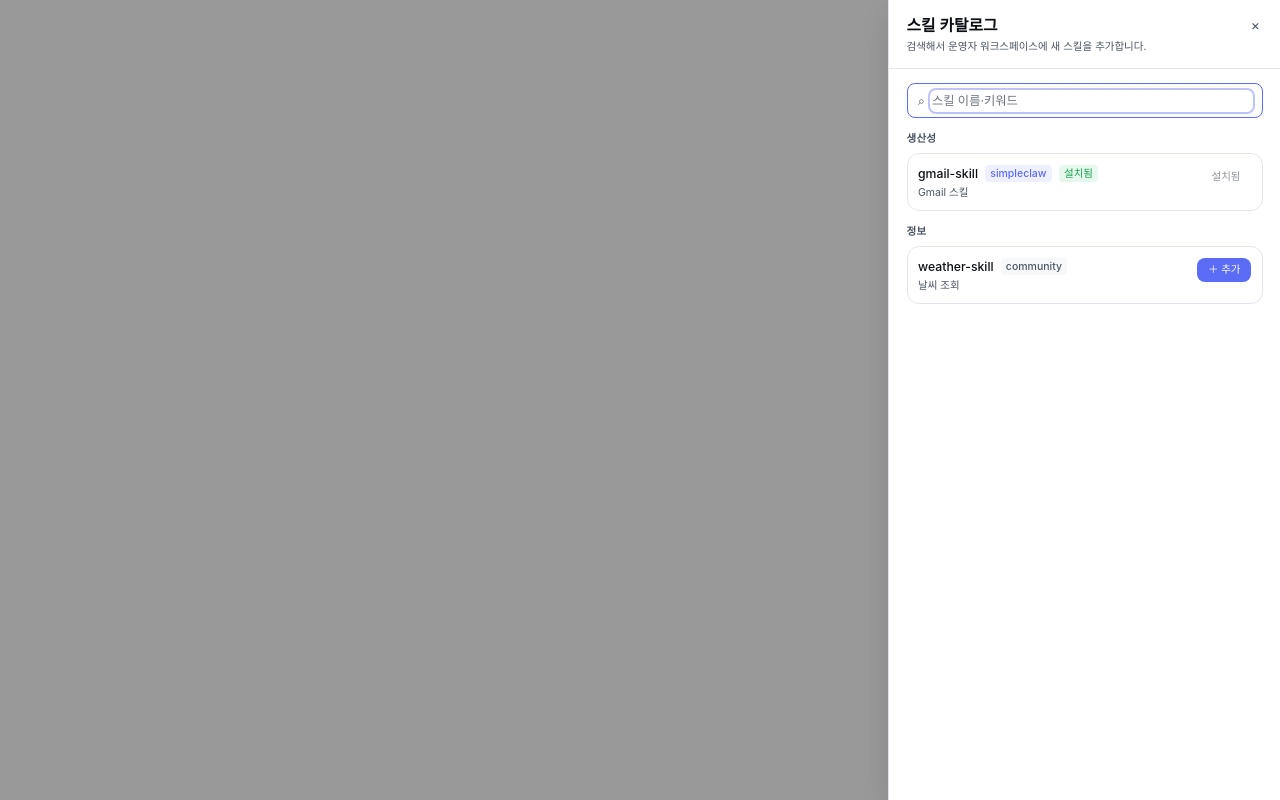
SkillDiscoveryDrawer › 검색 입력에 키워드를 넣으면 필터링
Type "weather" into the field with test id "skill-discovery-search" at (1091,101), box [932,92,1251,110]
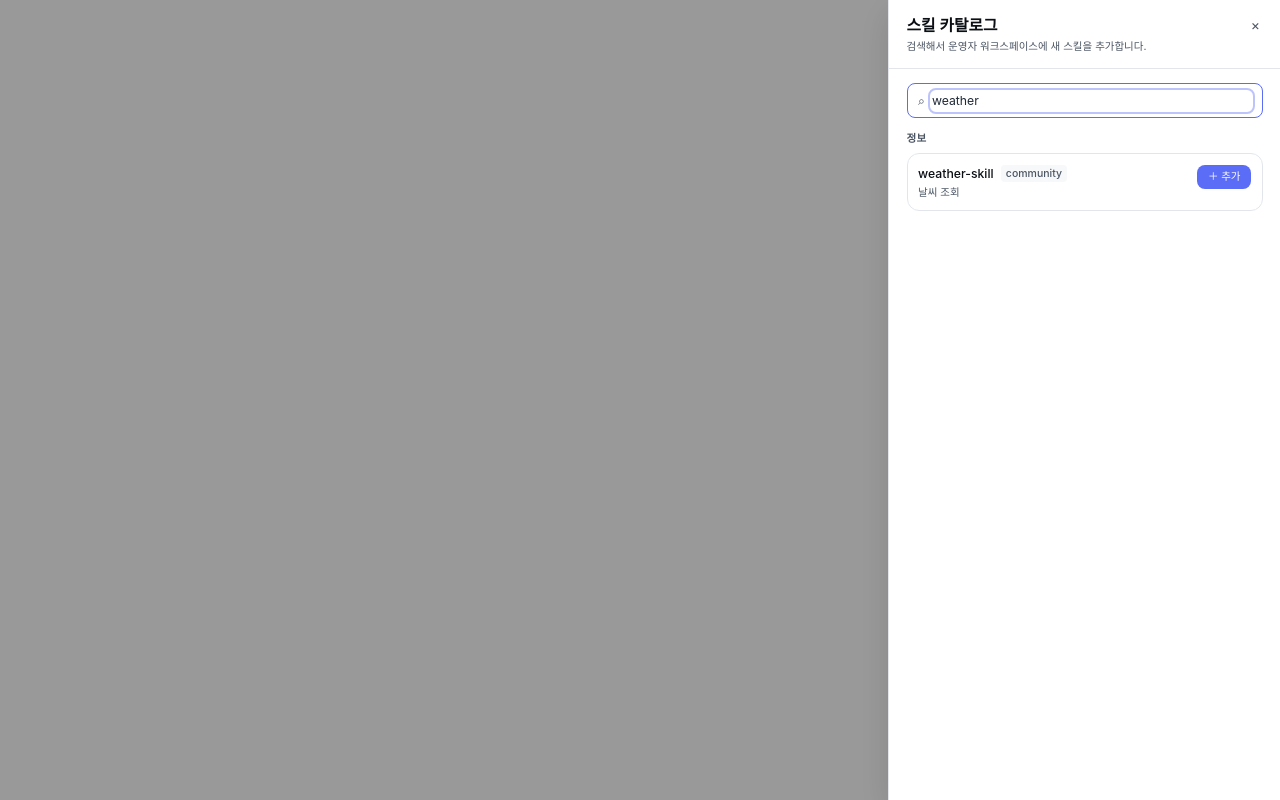
Expected: the list item with test id "catalog-skill-weather-skill" is shown, [906,153,1262,211]
Expected: the list item with test id "catalog-skill-gmail-skill" is gone
